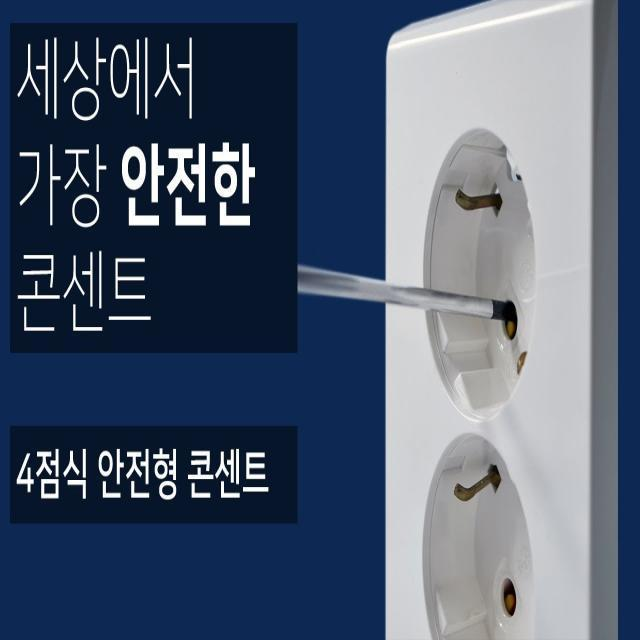typeb: (370, 3, 640, 640)
